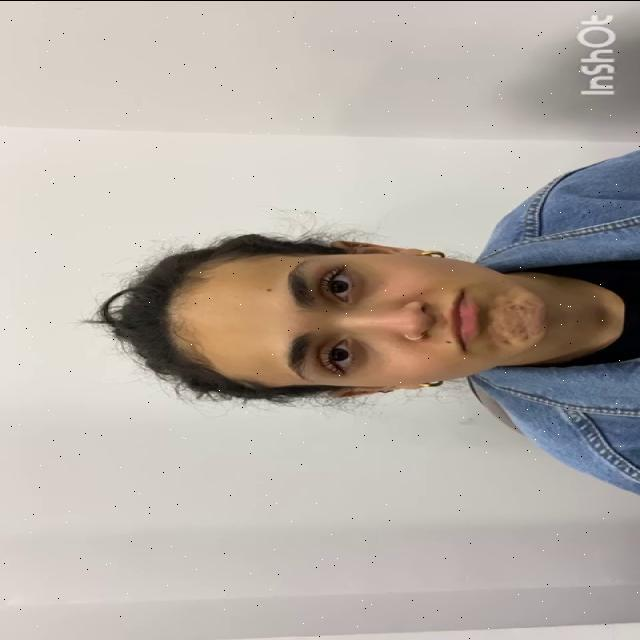natural: (198, 250, 542, 385)
